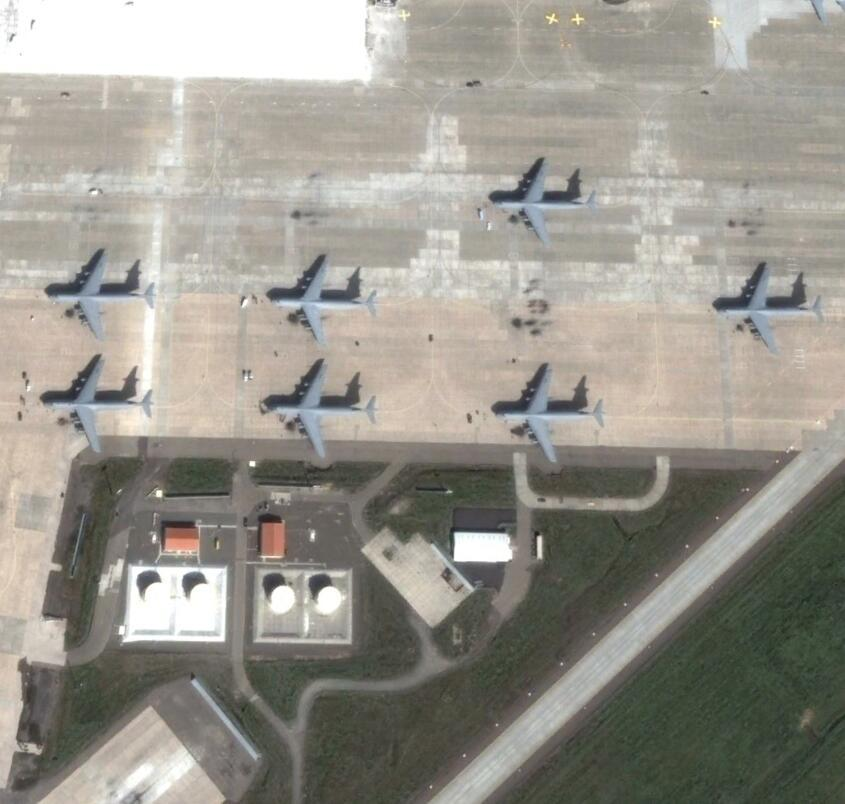A4: (259, 357, 378, 456), (41, 356, 155, 454), (494, 367, 608, 461), (265, 252, 377, 346), (43, 248, 155, 339), (490, 156, 600, 247), (715, 263, 824, 354)
